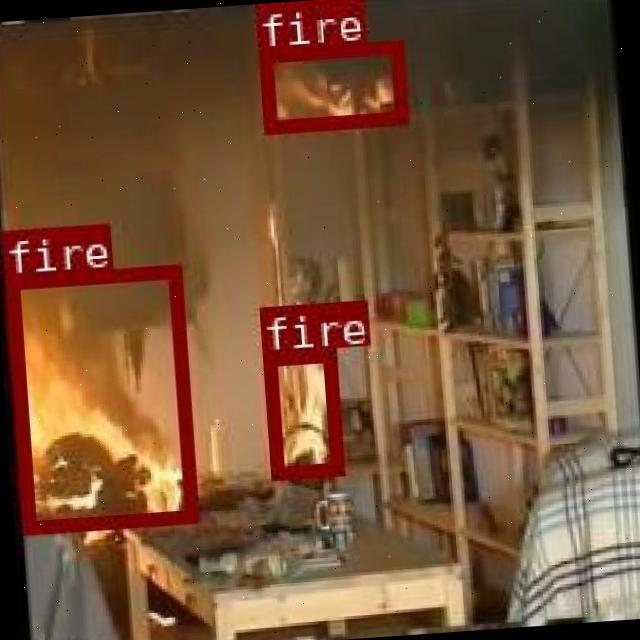fire: (4, 262, 197, 532), (256, 37, 404, 132), (261, 346, 341, 477)
